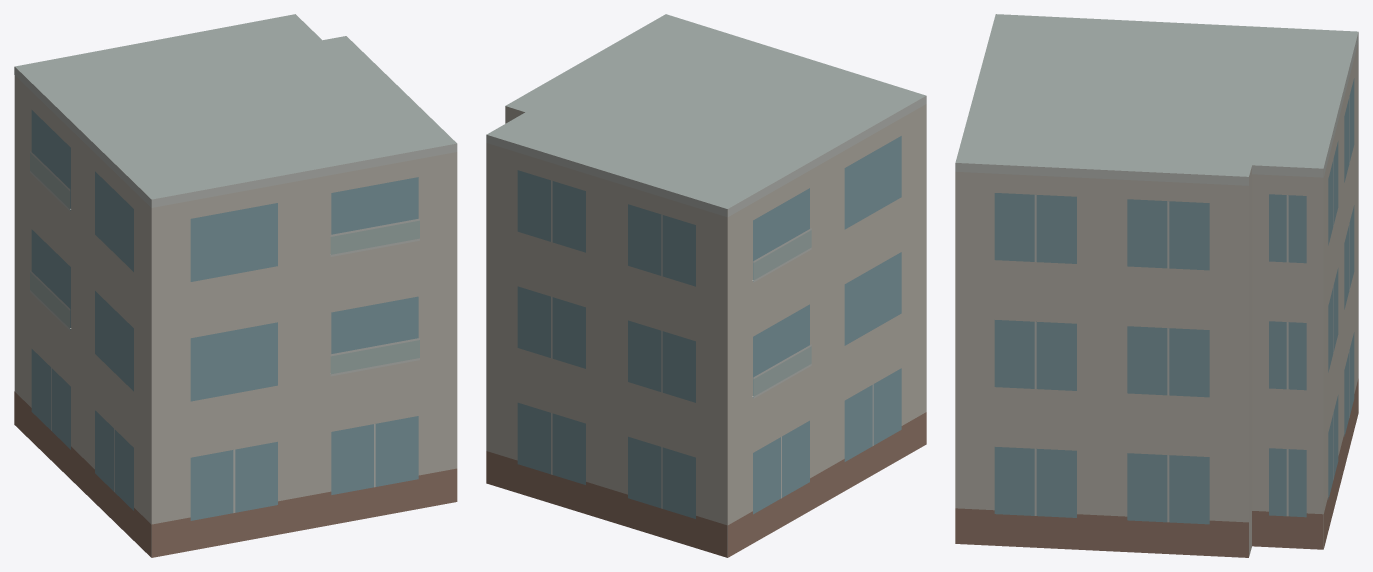
The model's file is survey-upis-32824856.glb.
3 views of the same model, side by side, from view 1: azimuth 30°, elevation 25°; view 2: azimuth 150°, elevation 25°; view 3: azimuth 270°, elevation 25° (orthographic). The views are drawn at different scales.
Parts seen in each view (by area): view 1: survey-upis-32824856.tmp; view 2: survey-upis-32824856.tmp; view 3: survey-upis-32824856.tmp.
Part boxes in pixels (x1=…): survey-upis-32824856.tmp: x1=14, y1=14, x2=457, y2=557; survey-upis-32824856.tmp: x1=486, y1=14, x2=926, y2=557; survey-upis-32824856.tmp: x1=955, y1=14, x2=1358, y2=557.
Bounding box in the file's own units: 9.55 × 10.4 × 9.99.
